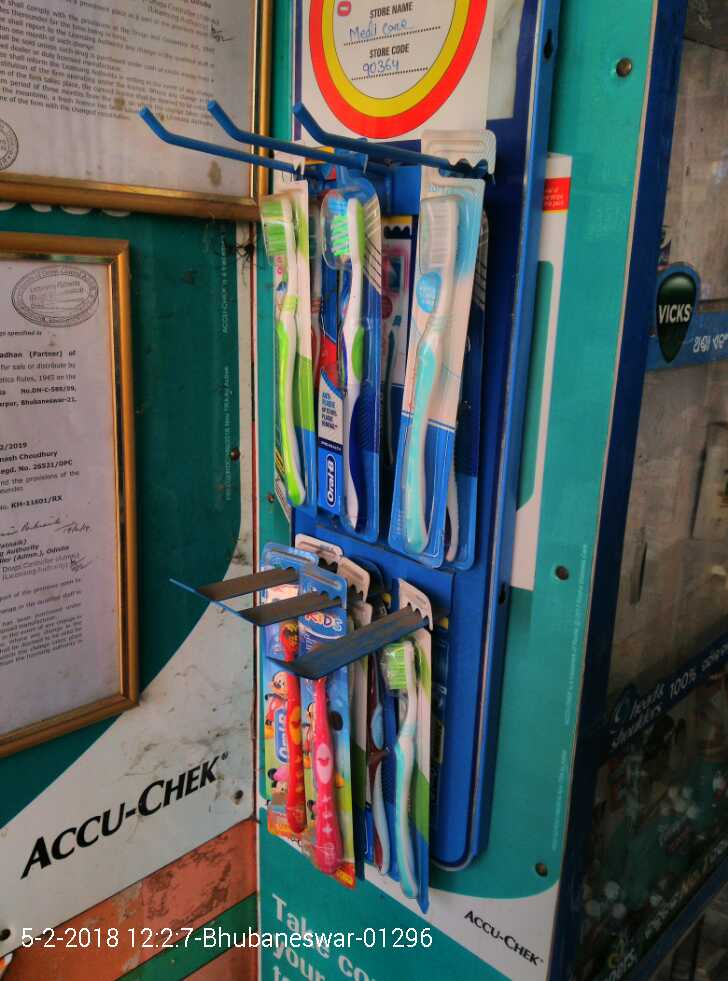oralb: (320, 186, 382, 532), (257, 185, 315, 513), (397, 196, 446, 557), (377, 637, 430, 897), (256, 617, 303, 842), (305, 639, 346, 872)
